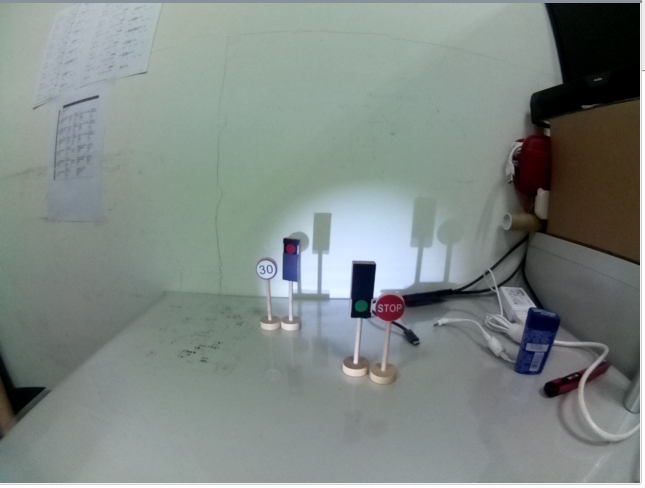Green: (348, 256, 374, 323)
Red: (282, 233, 302, 287)
Speed30: (255, 253, 279, 283)
Stop: (376, 288, 407, 324)
